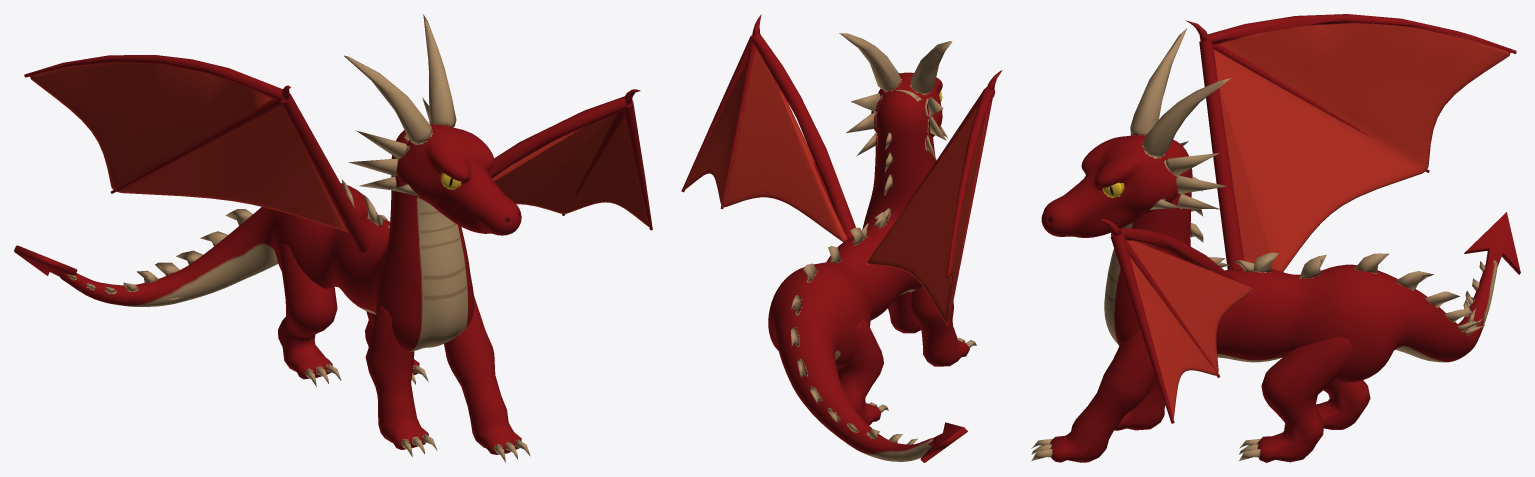
File: RedDragon.fbx
3 renders of one model, left to right at view 1: azimuth 30°, elevation 25°; view 2: azimuth 150°, elevation 25°; view 3: azimuth 270°, elevation 25°, orthographic. The views are drawn at different scales.
Visible parts, largest first — view 1: RedDragon; view 2: RedDragon; view 3: RedDragon.
Boxes of the visible parts, x1,y1,x2,y2 form: RedDragon: (14,14,652,462); RedDragon: (681,14,1002,462); RedDragon: (1031,14,1520,462).
Size of the model in its own units: 4.37 by 3.29 by 3.83.
Materials: 1 (1 with a texture image).
